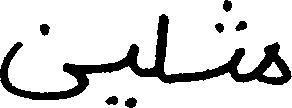X: (0, 19, 87, 104), (259, 37, 291, 89), (153, 9, 168, 87), (229, 0, 242, 86), (128, 39, 137, 107)
